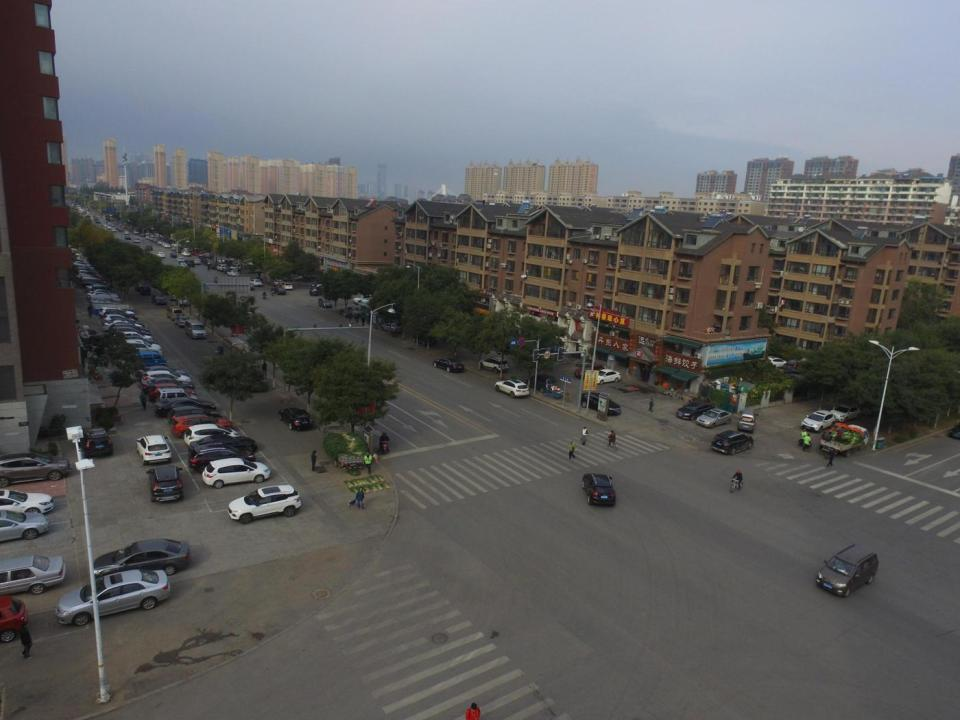car: (54, 569, 170, 622), (88, 538, 191, 584), (816, 545, 879, 597), (0, 553, 67, 601), (226, 487, 302, 522), (1, 449, 71, 484), (0, 485, 55, 520), (204, 458, 268, 487), (0, 512, 49, 547), (191, 445, 256, 470), (190, 434, 255, 459), (184, 425, 243, 449), (148, 466, 185, 504), (580, 474, 617, 510), (173, 417, 233, 439), (136, 433, 173, 466), (78, 428, 113, 461), (154, 398, 218, 416), (168, 408, 224, 428), (712, 431, 756, 456), (148, 382, 194, 405), (580, 392, 622, 417), (146, 378, 192, 400), (153, 389, 202, 409), (278, 406, 314, 433), (142, 371, 190, 389), (800, 409, 833, 434), (494, 377, 530, 399), (140, 366, 184, 383), (696, 408, 732, 428), (677, 400, 711, 421), (830, 402, 862, 424), (433, 356, 468, 373), (479, 357, 509, 373), (783, 359, 811, 375), (574, 363, 603, 378), (589, 371, 621, 384), (414, 333, 435, 347), (762, 356, 785, 368), (382, 323, 401, 334), (166, 288, 180, 301), (311, 284, 327, 295), (154, 294, 168, 306), (175, 317, 190, 328), (176, 294, 189, 306), (354, 295, 375, 302), (320, 298, 333, 309), (347, 306, 361, 316), (139, 285, 152, 295), (249, 279, 263, 287), (272, 288, 286, 296), (198, 253, 212, 260), (230, 264, 242, 270), (283, 283, 292, 290), (192, 260, 202, 266), (228, 271, 238, 277), (185, 260, 194, 266), (182, 251, 192, 256), (178, 262, 186, 268), (209, 262, 215, 270), (157, 252, 164, 258), (170, 253, 178, 258), (217, 266, 227, 270), (147, 245, 153, 251), (134, 237, 140, 243), (178, 256, 184, 262), (133, 231, 140, 234), (124, 237, 131, 240), (125, 231, 129, 235)
van: (126, 350, 170, 369), (737, 408, 758, 433), (532, 374, 558, 393), (184, 319, 206, 339), (167, 307, 186, 322)
